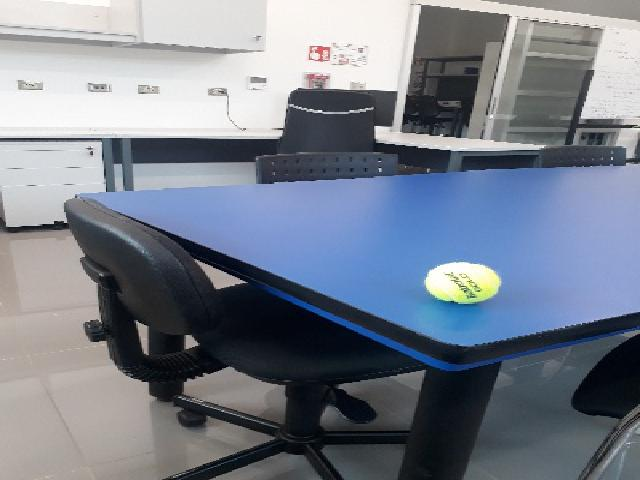Ball: (424, 263, 499, 302)
